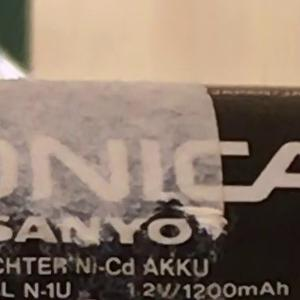keyword: (60, 248, 130, 282)
